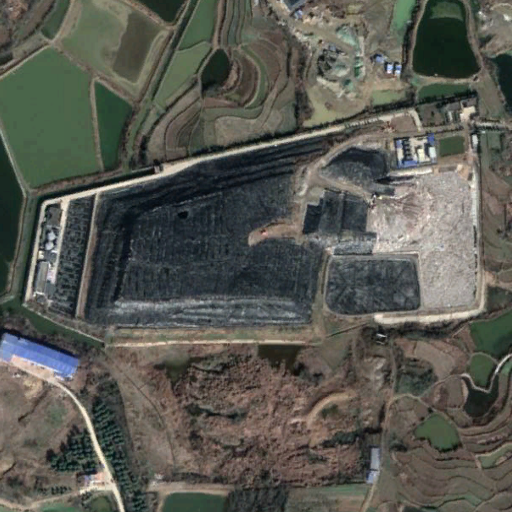lf: (90, 134, 484, 327)
